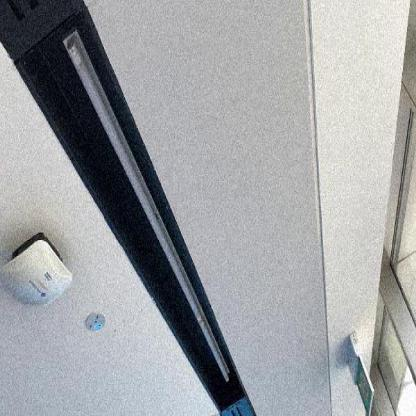light_off: (58, 25, 234, 392)
